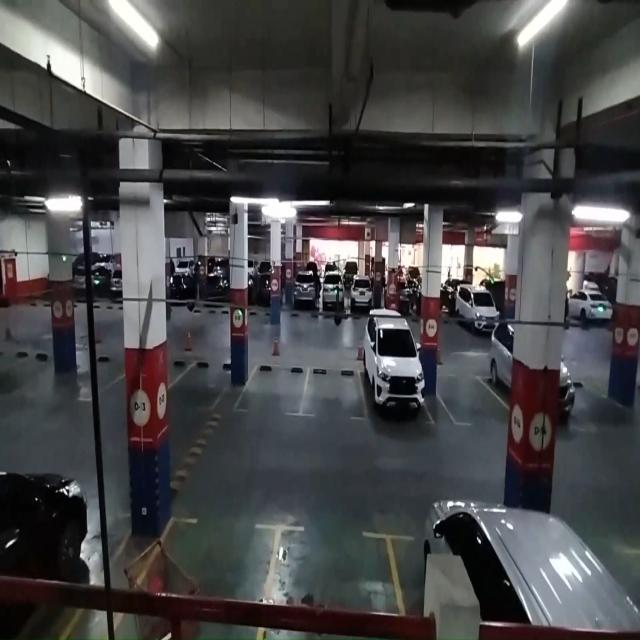empty: (437, 366, 500, 427), (248, 360, 306, 418), (306, 364, 363, 421)
occupied: (363, 356, 431, 423)
